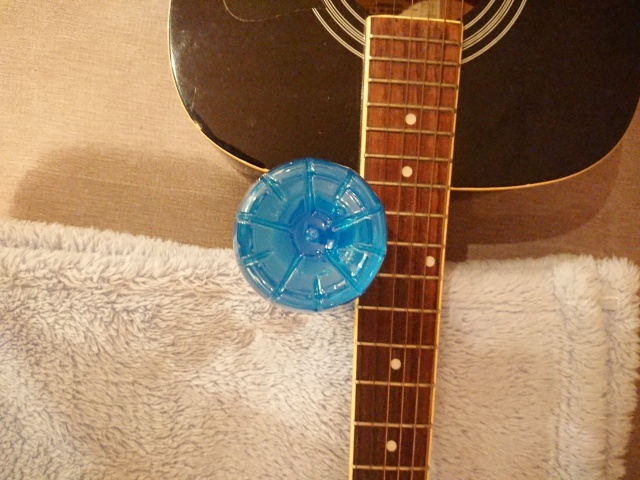Vindi Iso Sport Forest Strawberries 500mL: (230, 154, 391, 313)
